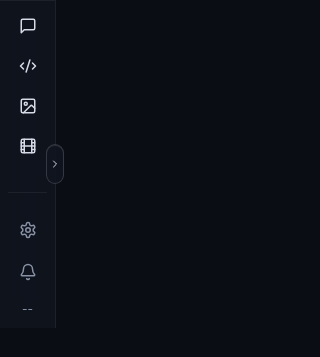
Test case: sidebar compact mode › persists the toggle
Click the button with test id "sidebar-collapse-toggle": coordinates (55, 164) [46,144,64,184]
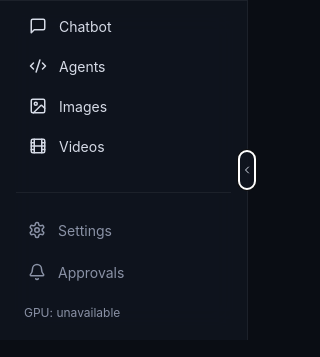
Result: the link with test id "nav-chatbot" reads "Chatbot" at [29,17,112,35]
